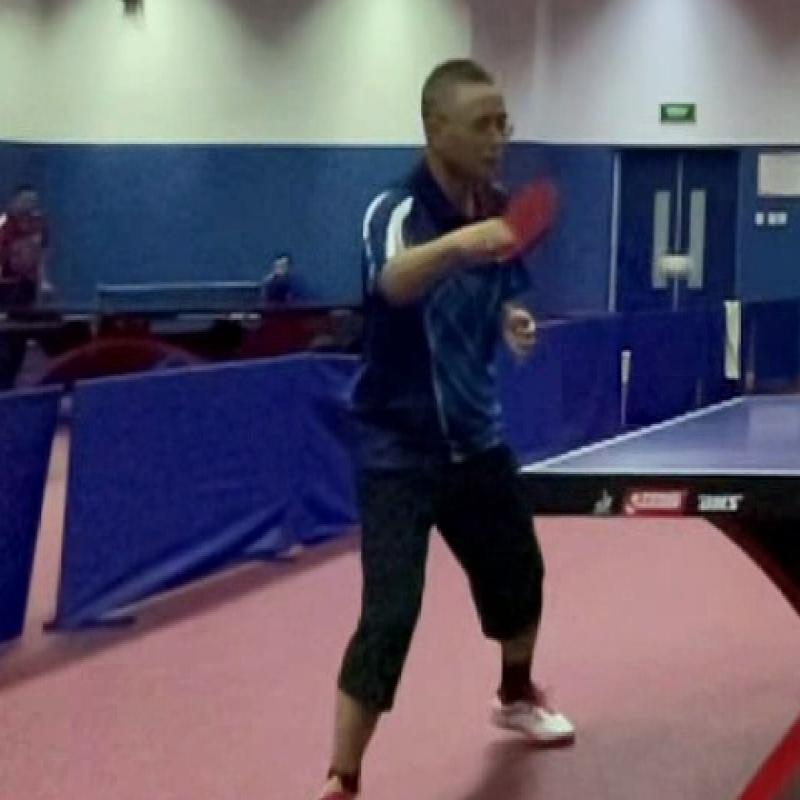bats: (488, 164, 572, 274)
